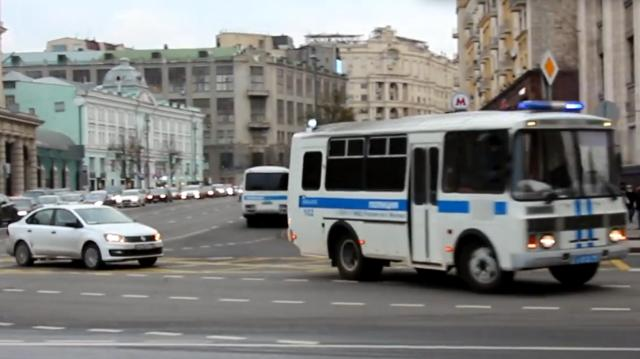non emergency car: (5, 203, 165, 272)
police car: (286, 98, 635, 301), (240, 165, 296, 234)
